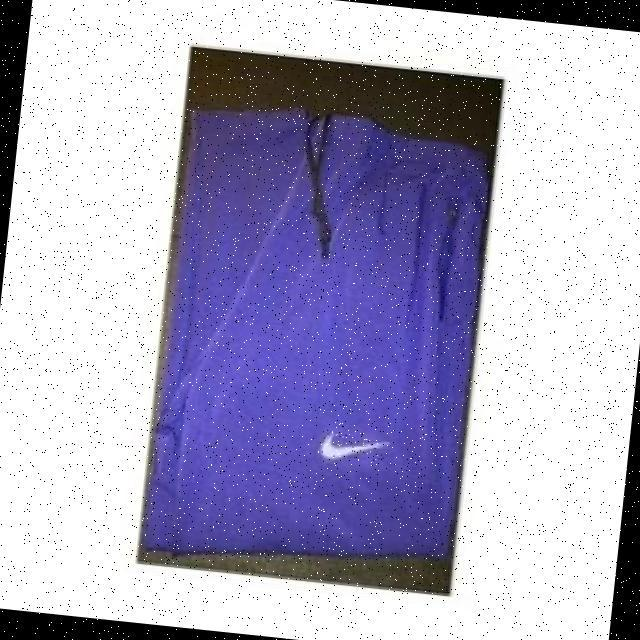Nike: (318, 429, 386, 462)
